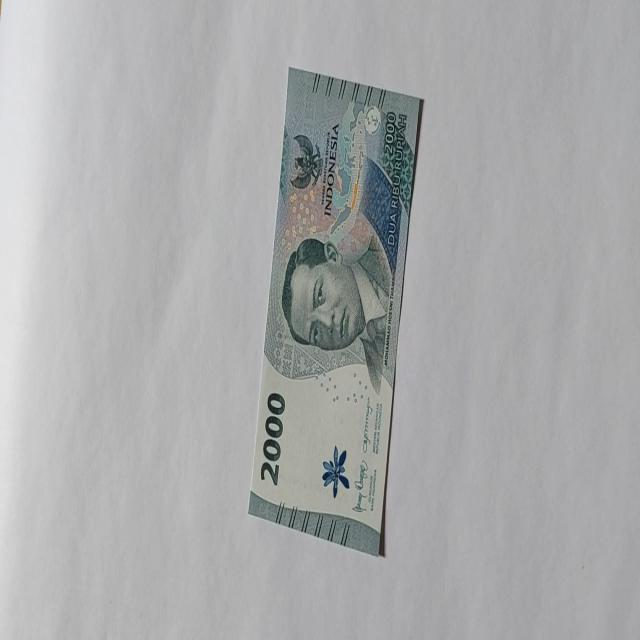dua ribu rupiah: (246, 66, 424, 556), (280, 230, 392, 392)
